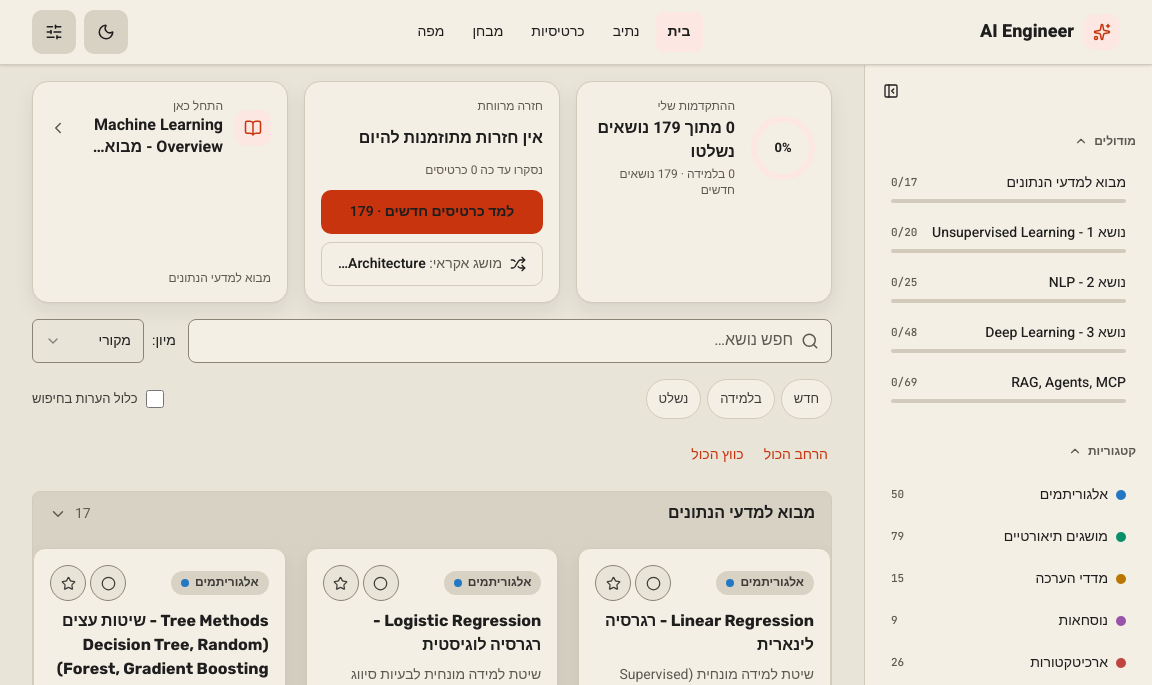
App › moves focus to the main region after a client-side navigation
Step 1. Click the link "מבחן" → (488, 32), box [472, 21, 503, 42]
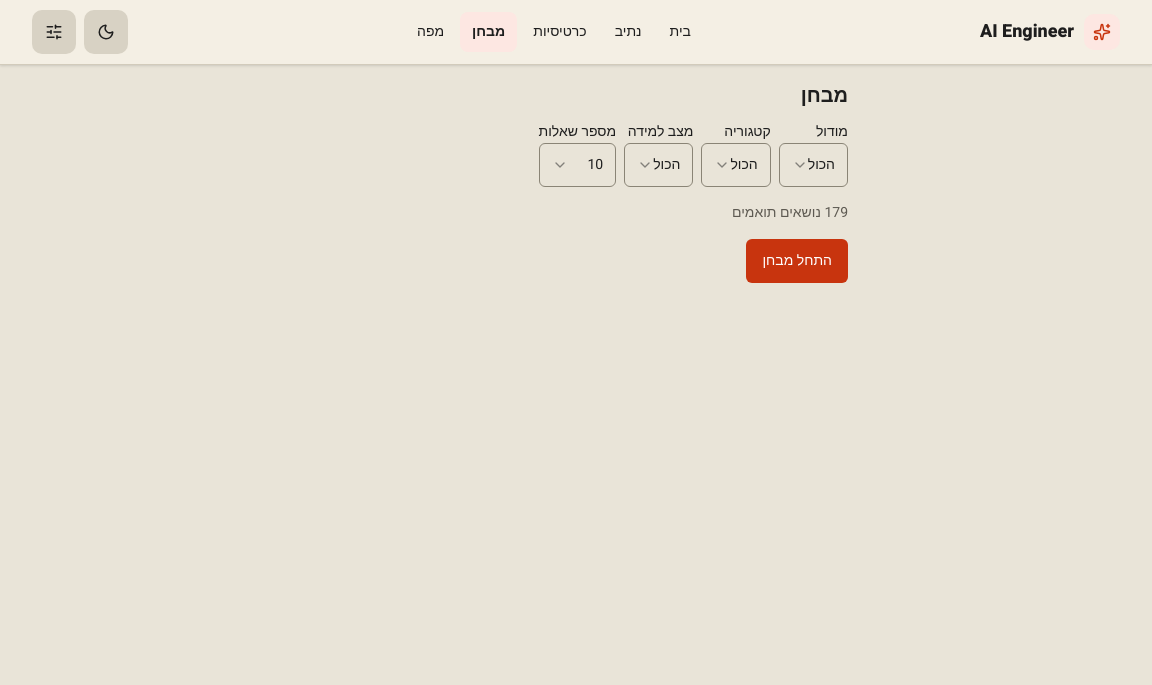
Result: the heading "מבחן" is shown at [801, 83, 848, 107]
